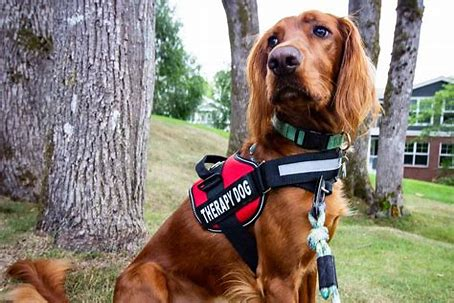dog: (83, 11, 399, 301)
